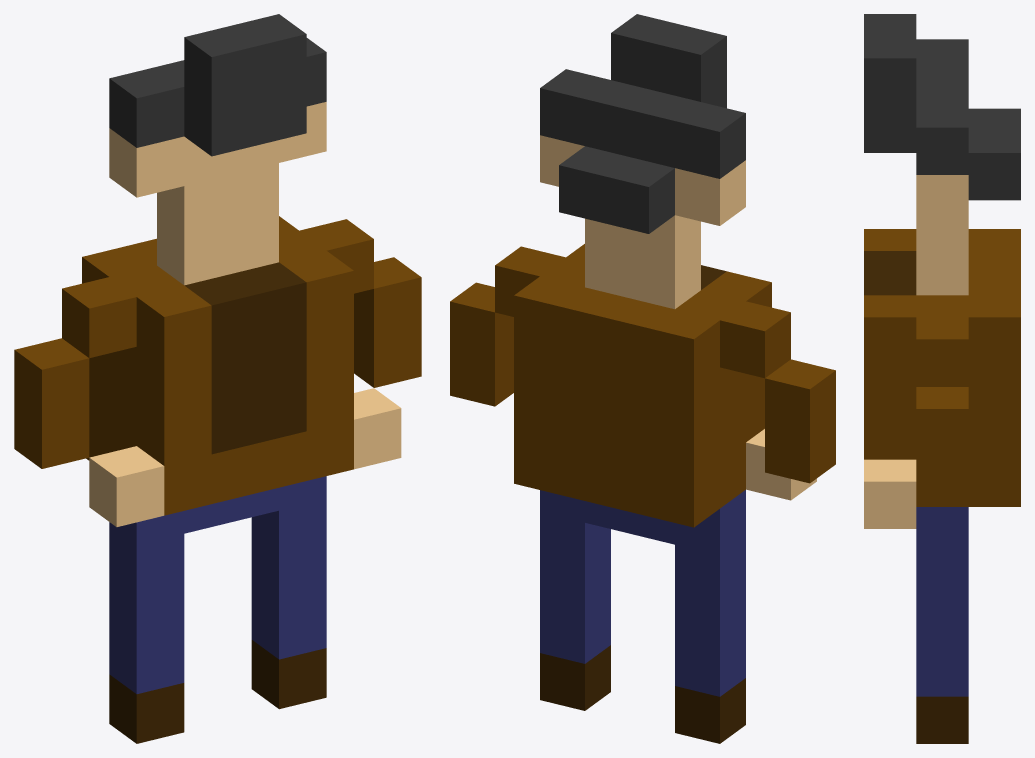
The model's file is scummBarPirate11.obj.
3 renders of one model, left to right at view 1: azimuth 30°, elevation 25°; view 2: azimuth 150°, elevation 25°; view 3: azimuth 270°, elevation 25°, orthographic. The views are drawn at different scales.
Bounding box in the file's own units: 8 × 14 × 3.
1 material, 1 textured.
